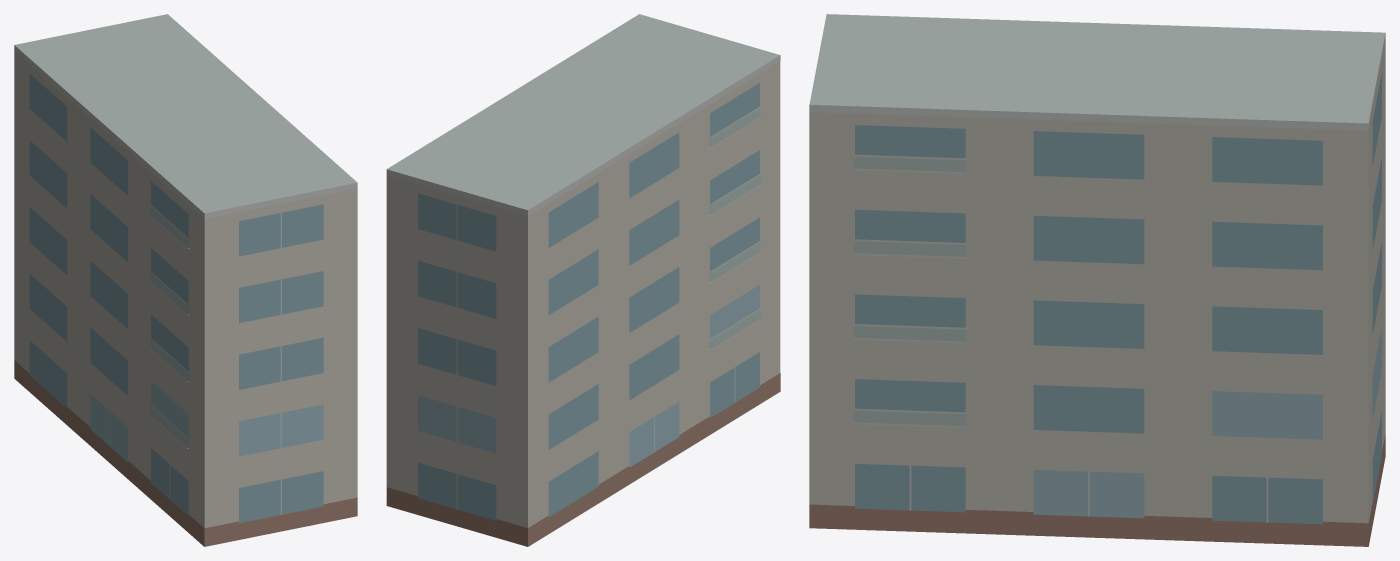
File: survey-upis-32753859.glb
The picture shows the model from 3 angles, left to right: view 1: azimuth 30°, elevation 25°; view 2: azimuth 150°, elevation 25°; view 3: azimuth 270°, elevation 25°; orthographic projection. The views are drawn at different scales.
Parts seen in each view (by area): view 1: survey-upis-32753859.tmp; view 2: survey-upis-32753859.tmp; view 3: survey-upis-32753859.tmp.
Boxes of the visible parts, x1,y1,x2,y2 form: survey-upis-32753859.tmp: (14,14,357,546); survey-upis-32753859.tmp: (386,14,780,546); survey-upis-32753859.tmp: (809,14,1385,546).
Bounding box in the file's own units: 7.77 × 14 × 17.28.
